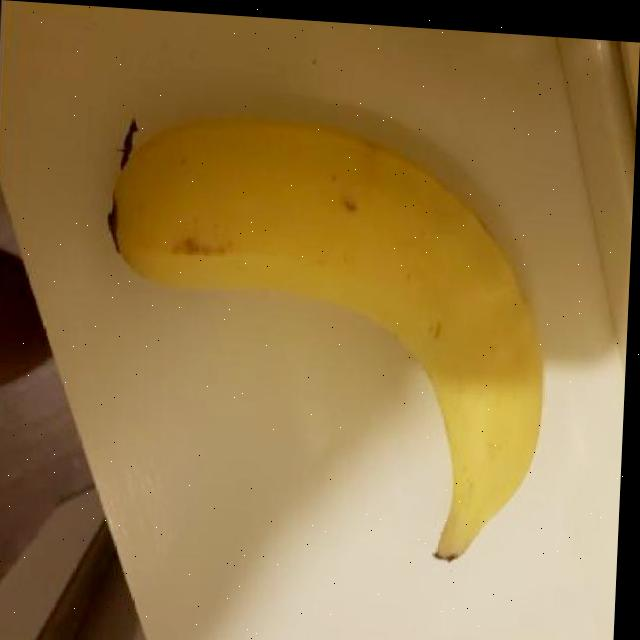banana: (72, 89, 569, 574)
